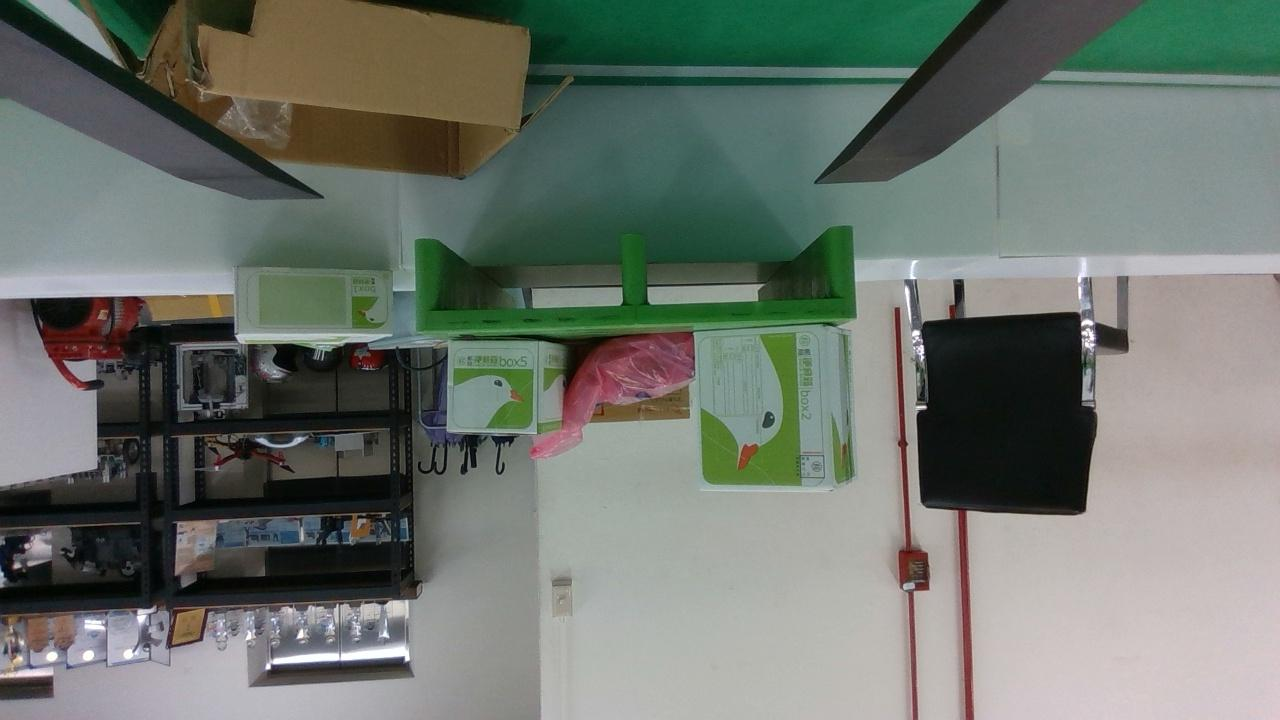Pallet: (411, 226, 856, 333)
